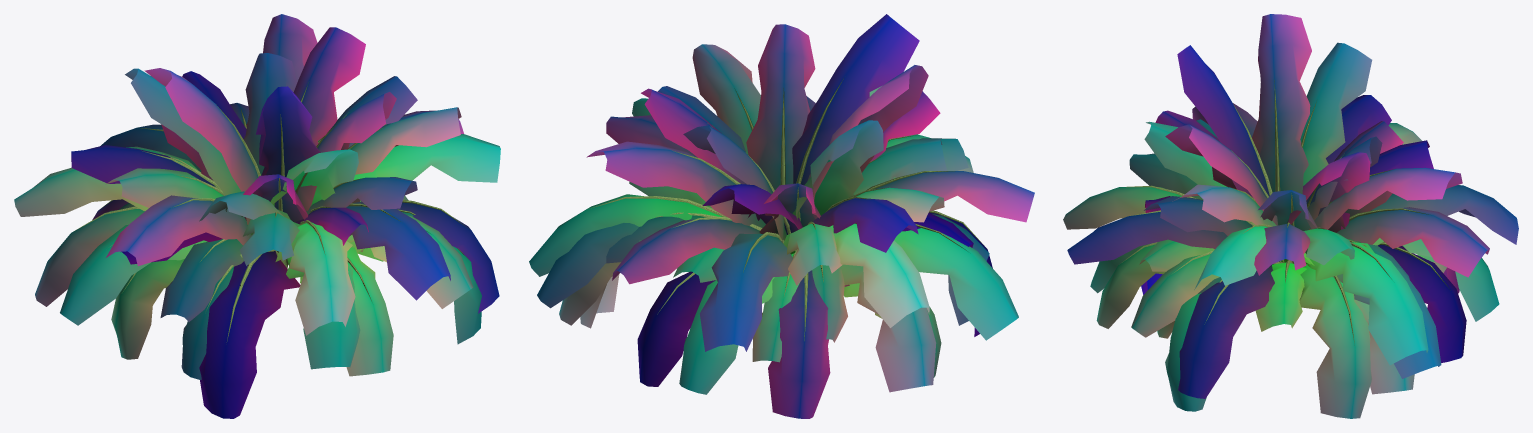
Rendered from fern.fbx.
3 views of the same model, side by side, from view 1: azimuth 30°, elevation 25°; view 2: azimuth 150°, elevation 25°; view 3: azimuth 270°, elevation 25° (orthographic). The views are drawn at different scales.
Parts seen in each view (by area): view 1: Tree_1, Tree_2; view 2: Tree_1, Tree_2; view 3: Tree_1, Tree_2.
Part boxes in pixels (x1,y1,x2,y2): Tree_1: (14, 14, 500, 418); Tree_2: (75, 82, 468, 342); Tree_1: (529, 14, 1034, 418); Tree_2: (591, 78, 986, 340); Tree_1: (1063, 14, 1518, 418); Tree_2: (1122, 80, 1460, 345).
Size of the model in its own units: 201 by 141 by 205.
Materials: 1 (1 with a texture image).
